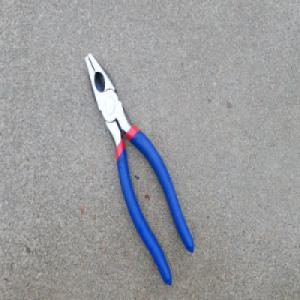Pliers: (84, 51, 194, 286)
